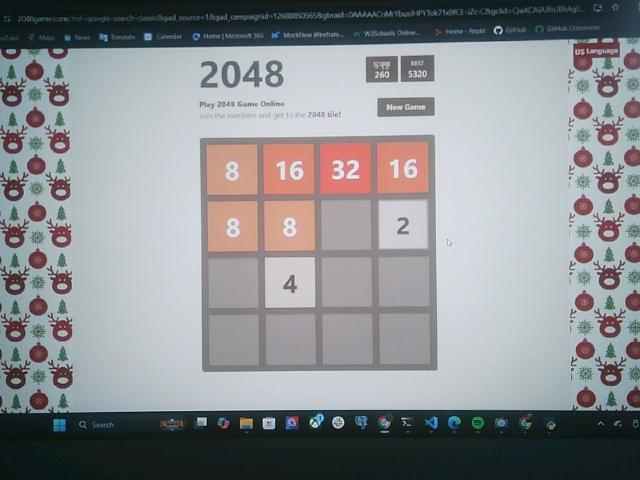board: (201, 137, 437, 370)
tile: (263, 256, 316, 308), (378, 141, 429, 194), (263, 143, 314, 195), (208, 201, 259, 253), (207, 143, 257, 196), (320, 142, 371, 193), (264, 201, 315, 251), (379, 199, 428, 250)
